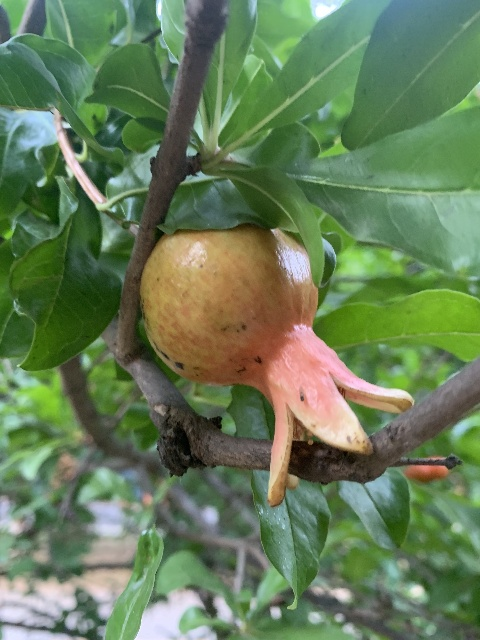bud: (407, 457, 449, 482)
early-fruit: (140, 227, 413, 506)
